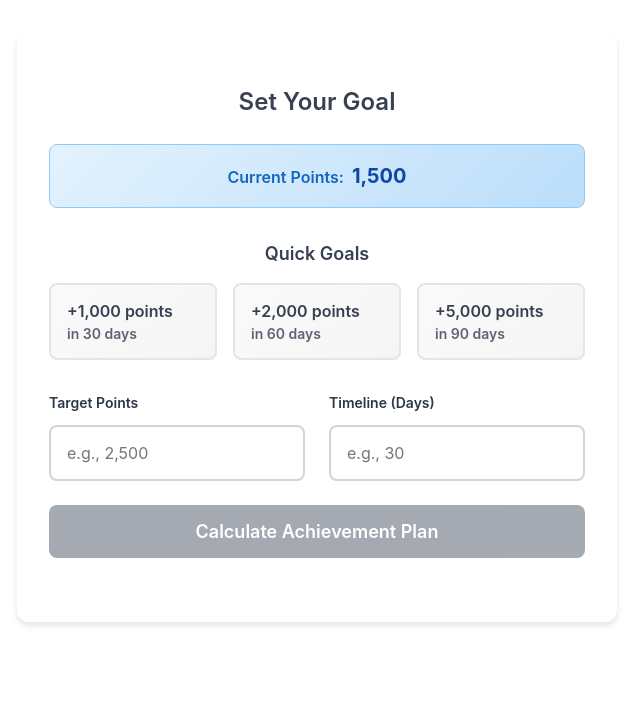
Test: GoalCalculator Component › Goal Preview › should calculate required points correctly
The image size is (635, 710).
Type "3000" into the number field labelled "Target Points" at [177, 453], box [49,425,305,481]
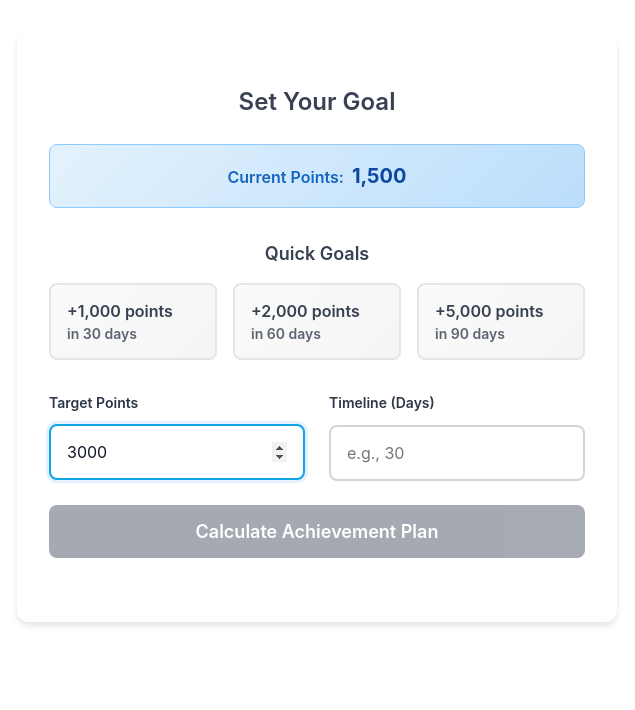
Type "60" into the number field labelled "Timeline (Days)" at [457, 453], box [329,425,585,481]
(page scrolled)
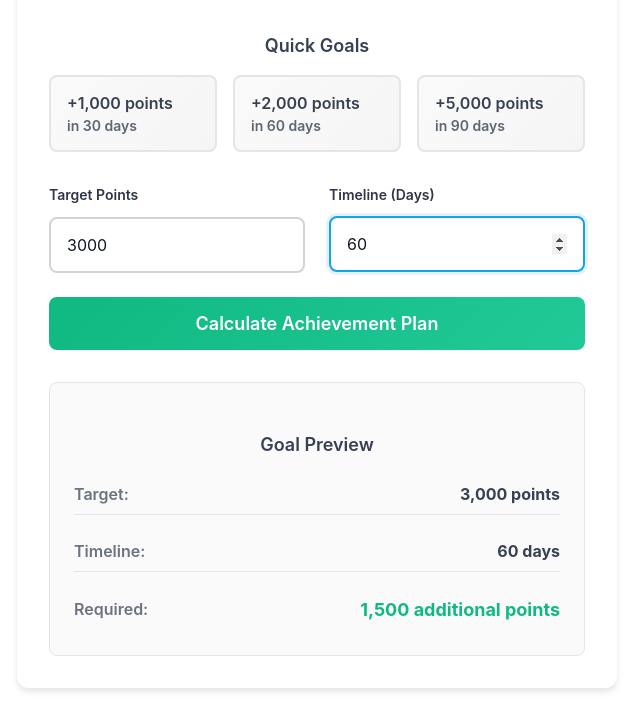
Expected: the text "1,500 additional points" is shown, [360,596,560,623]
